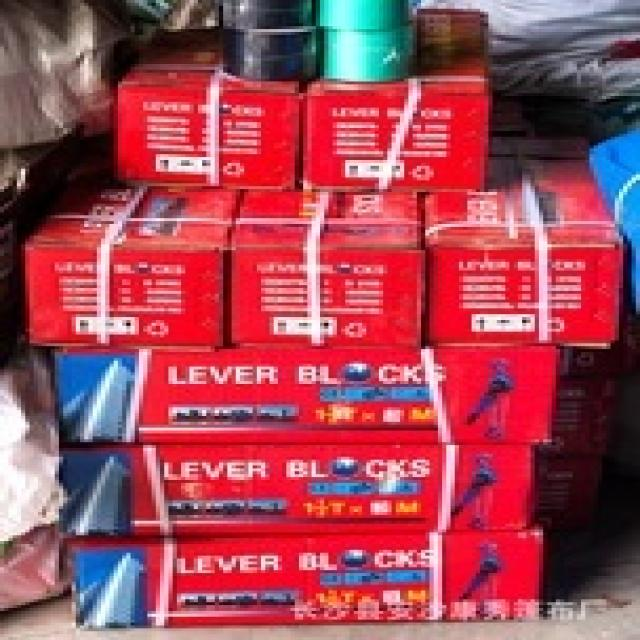box: (55, 340, 560, 448), (67, 527, 539, 628), (55, 445, 539, 541), (425, 154, 627, 349), (25, 183, 240, 346), (227, 189, 429, 346), (109, 52, 307, 192), (303, 58, 493, 192)
